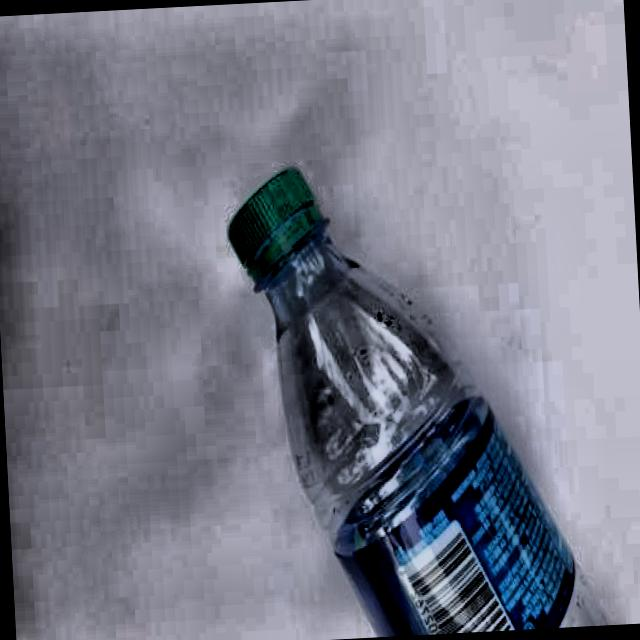plastic: (224, 146, 610, 636)
